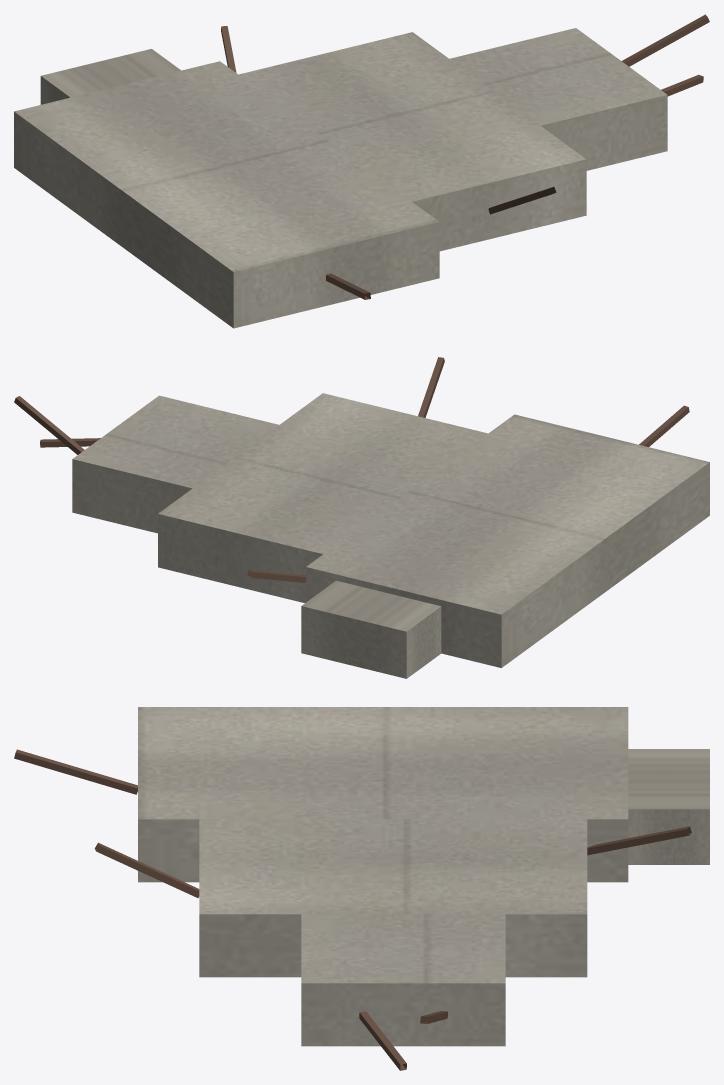
Rendered from debris_sf_concrete_slab.glb.
3 views of the same model, one above another, from view 1: azimuth 30°, elevation 25°; view 2: azimuth 150°, elevation 25°; view 3: azimuth 270°, elevation 25° (orthographic). The views are drawn at different scales.
Parts seen in each view (by area): view 1: debris_sf_concrete_slab; view 2: debris_sf_concrete_slab; view 3: debris_sf_concrete_slab.
Boxes of the visible parts, x1,y1,x2,y2 form: debris_sf_concrete_slab: (14, 14, 709, 328); debris_sf_concrete_slab: (14, 357, 709, 678); debris_sf_concrete_slab: (14, 707, 709, 1070).
Bounding box in the file's own units: 3.81 × 0.485 × 3.41.
Materials: 1 (1 with a texture image).
